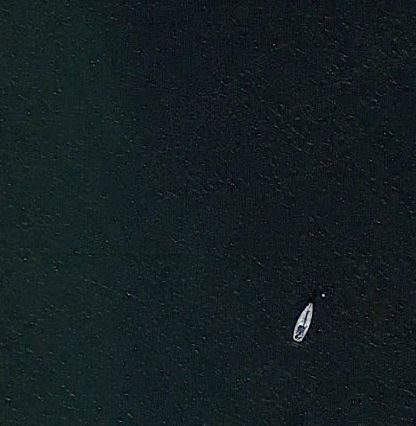boat: (291, 297, 316, 344)
